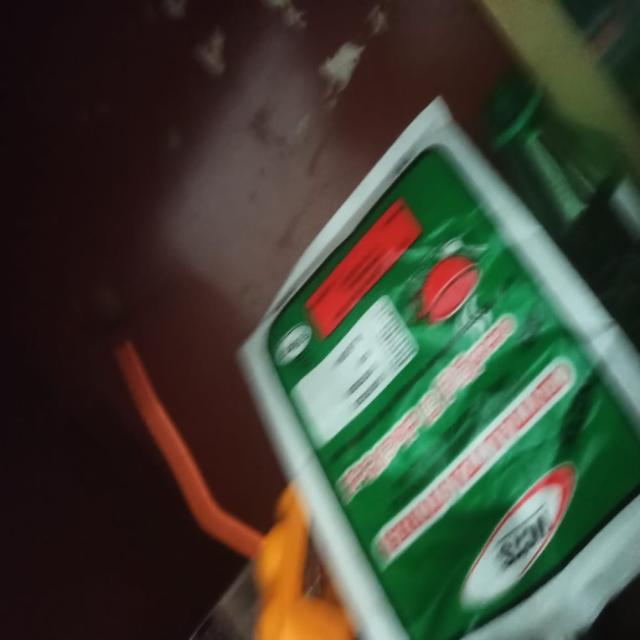Central Tea: (244, 174, 568, 544)
